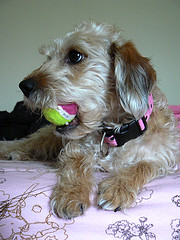tennis ball: (40, 97, 81, 126)
